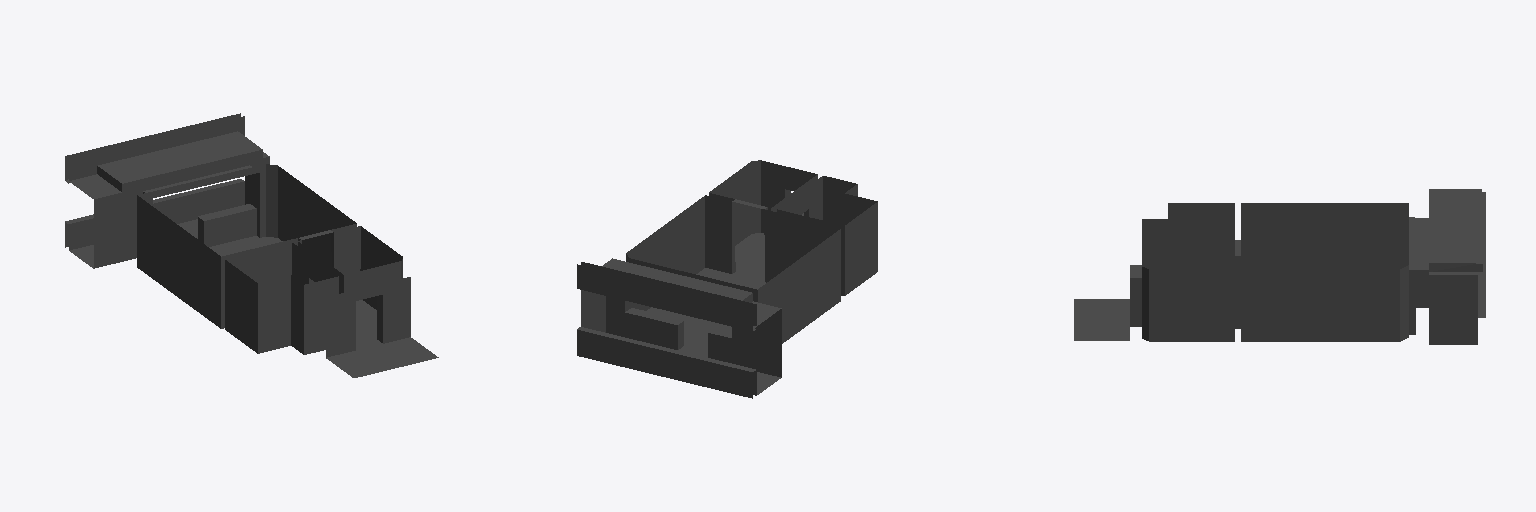
Rendered from adi.obj.
3 views of the same model, side by side, from view 1: azimuth 30°, elevation 25°; view 2: azimuth 150°, elevation 25°; view 3: azimuth 270°, elevation 25° (orthographic).
Parts seen in each view (by area): view 1: Line01; view 2: Line01; view 3: Line01.
Boxes of the visible parts, <box> form: Line01: <box>65,113,438,377</box>; Line01: <box>577,160,877,398</box>; Line01: <box>1074,189,1485,344</box>.
Bounding box in the file's own units: 667 × 332 × 1353.